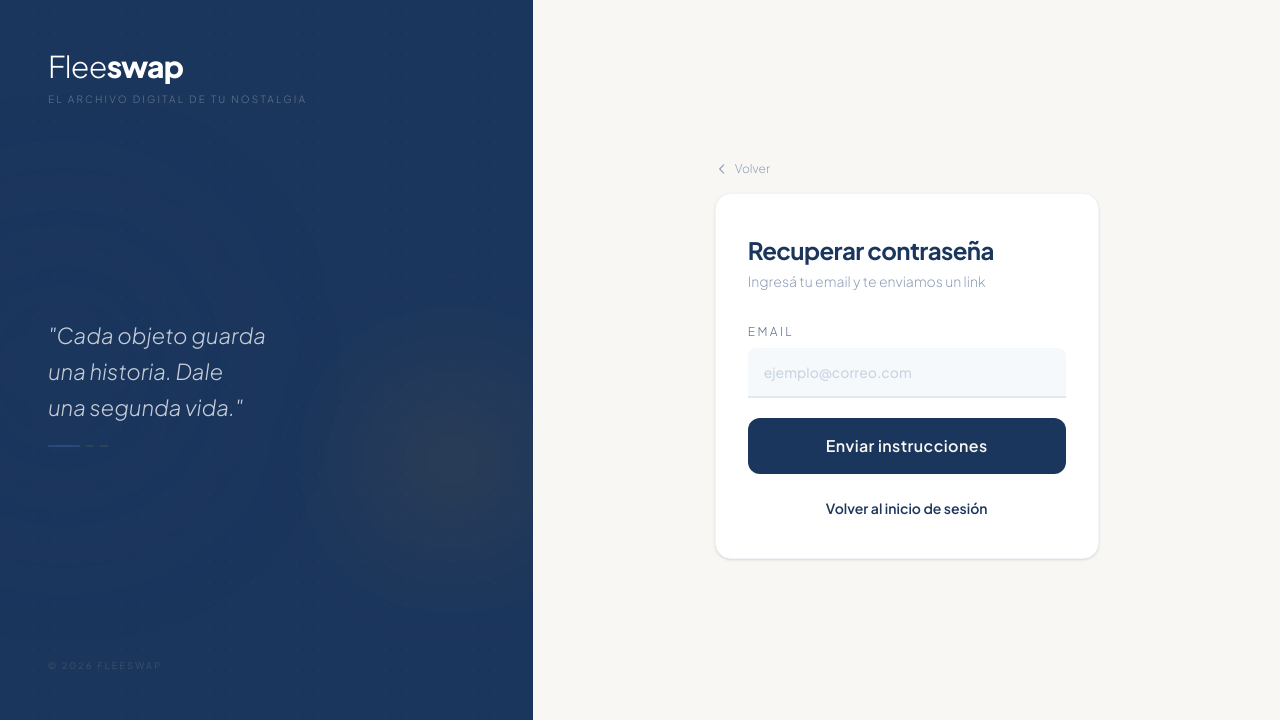
it: Forgot password › muestra el mismo mensaje genérico para un email inexistente (no filtra info)
The width and height of the screenshot is (1280, 720).
Type "no-existe@fleeswap.dev" into the field labelled "Email" at [907, 373], box [748,348,1066,398]
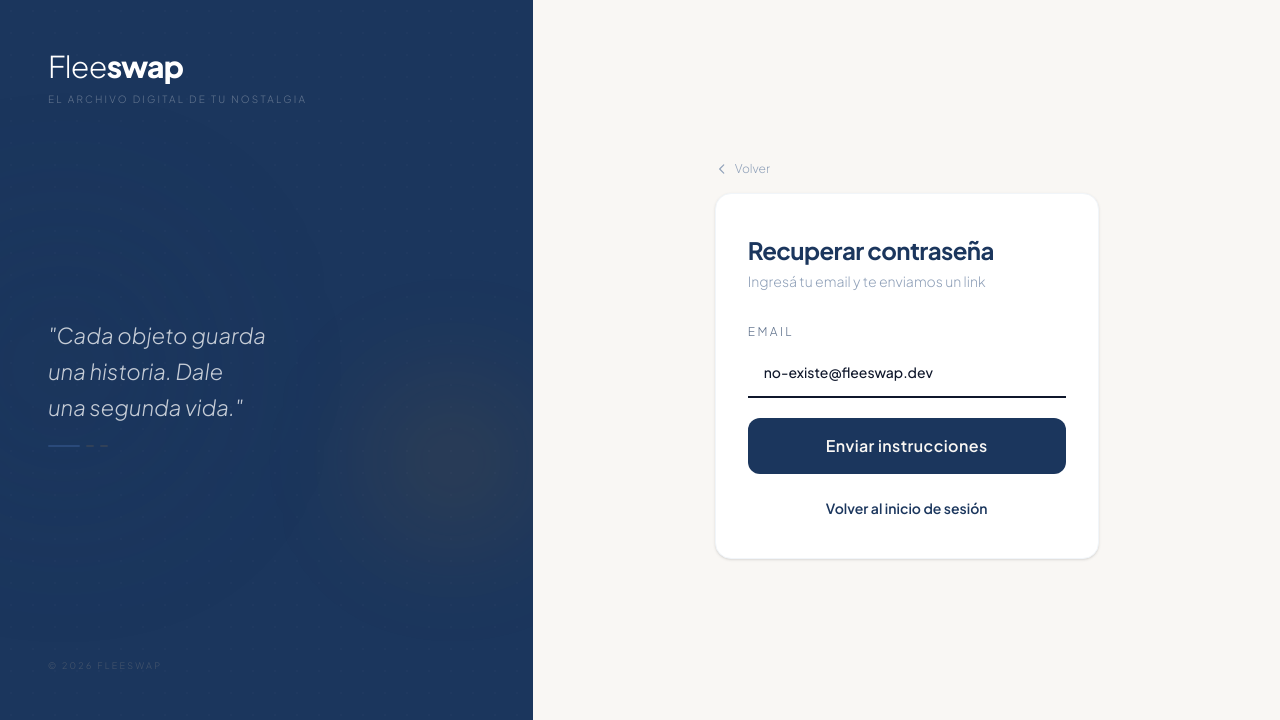
Click the button "Enviar instrucciones" at [907, 446], box [748,418,1066,474]
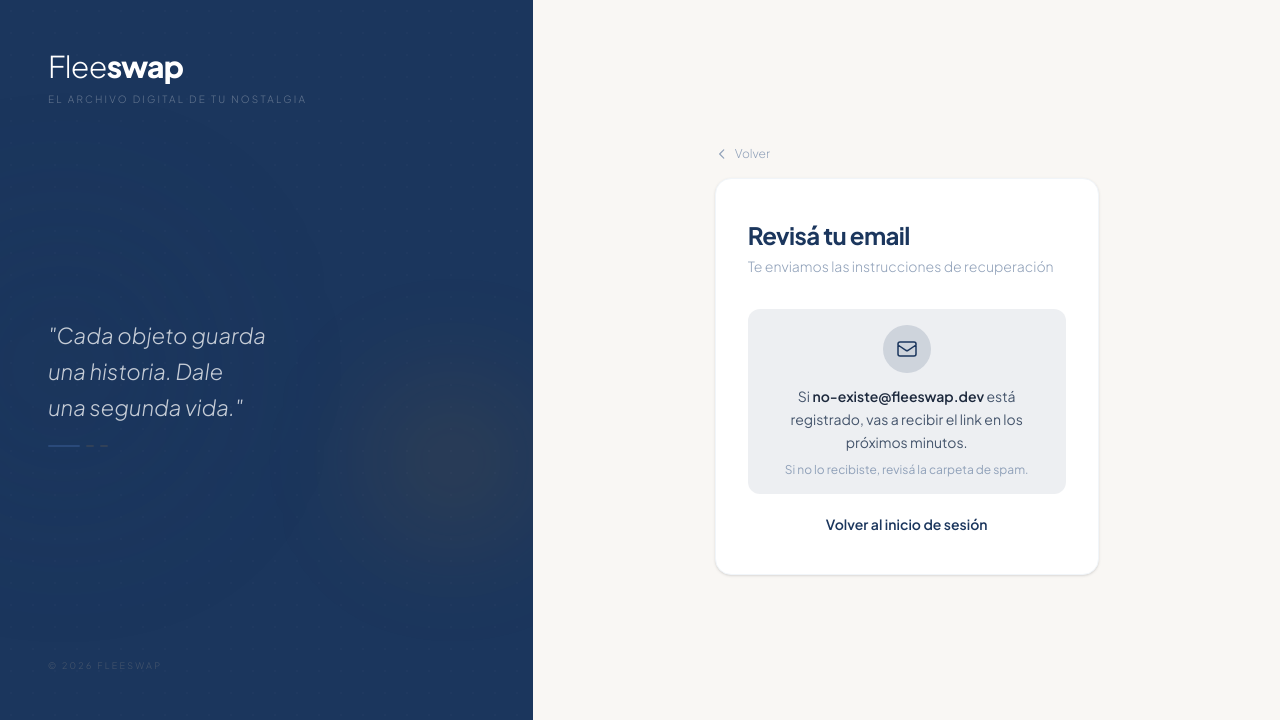
Check: the heading "Revisá tu email" is shown, box [748,220,910,250]
